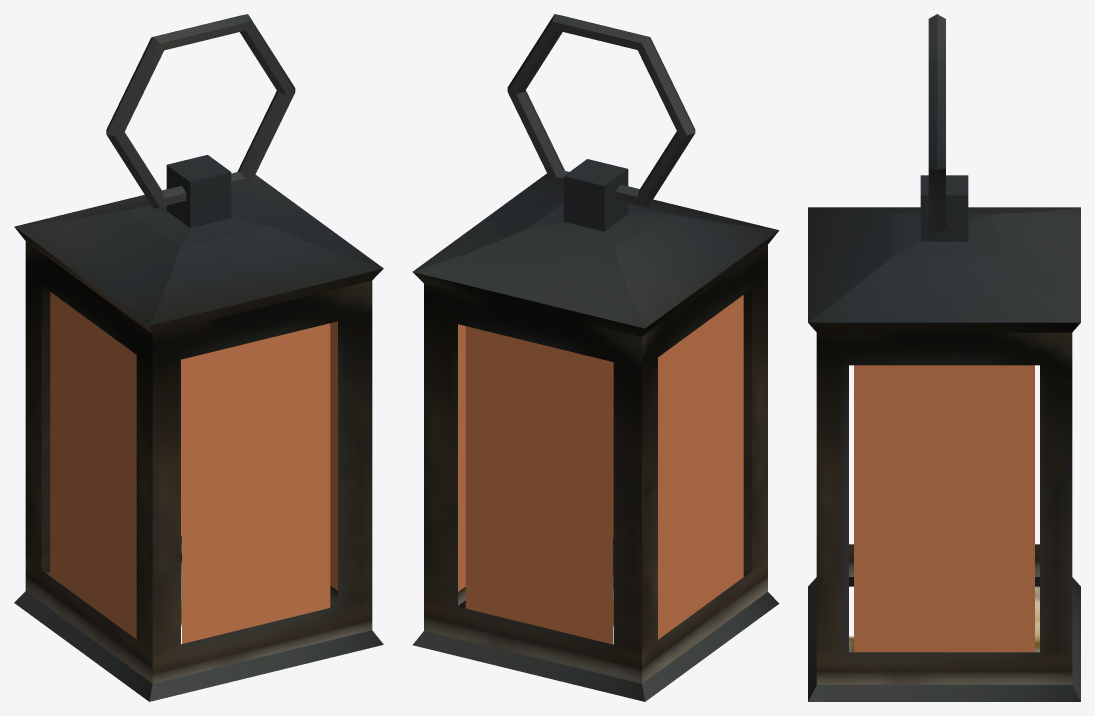
File: LanternaEstrabao_v01.fbx
3 views of the same model, side by side, from view 1: azimuth 30°, elevation 25°; view 2: azimuth 150°, elevation 25°; view 3: azimuth 270°, elevation 25° (orthographic).
Parts seen in each view (by area): view 1: Cube.012; view 2: Cube.012; view 3: Cube.012.
Boxes of the visible parts, x1,y1,x2,y2 form: Cube.012: (14, 14, 383, 701); Cube.012: (412, 14, 779, 701); Cube.012: (808, 14, 1080, 701).
Bounding box in the file's own units: 12.4 × 30.39 × 12.4.
